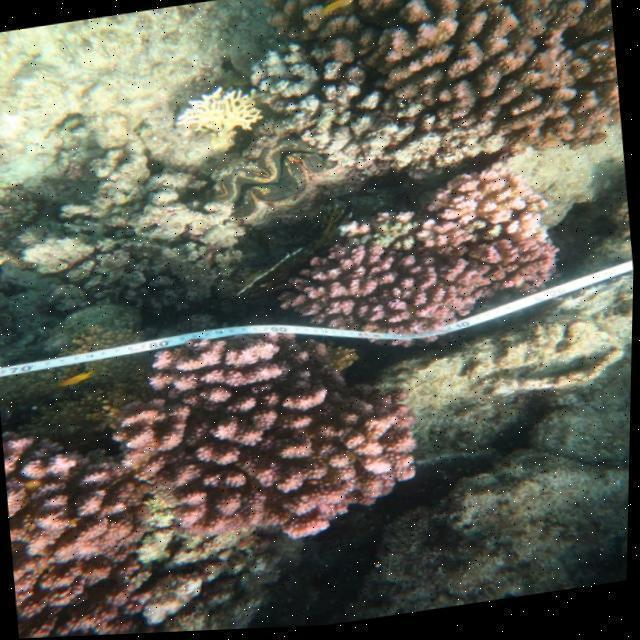Bleached Coral: (253, 63, 426, 166), (178, 93, 266, 143)
Healthy Coral: (127, 312, 419, 558), (311, 167, 549, 351), (3, 450, 162, 640), (320, 0, 611, 89)
